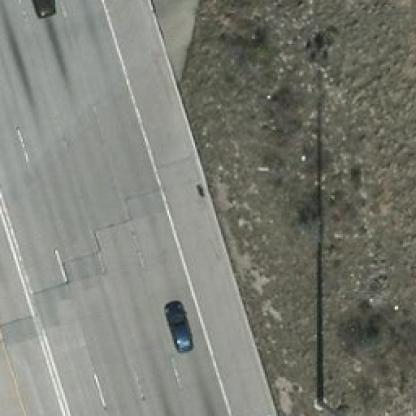car: (162, 300, 196, 352)
